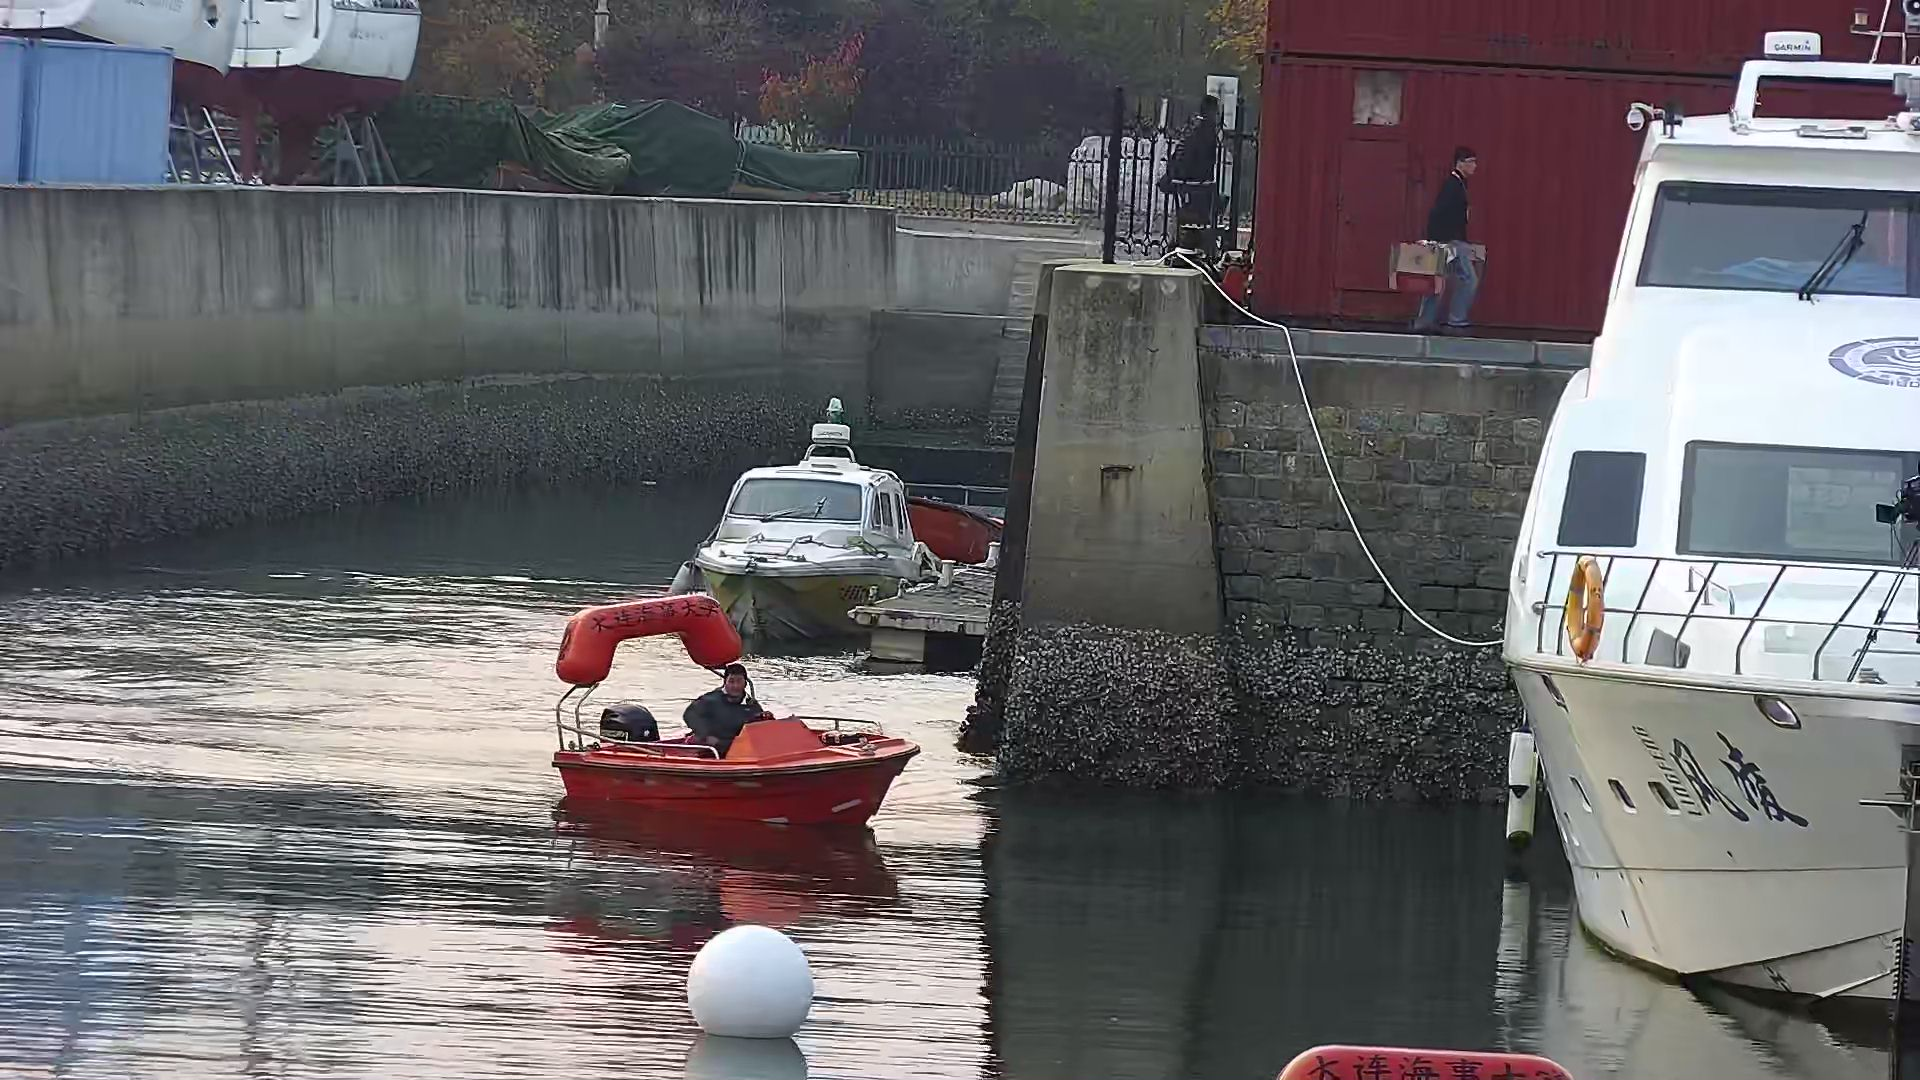ball: (683, 921, 818, 1041)
boat: (553, 596, 924, 837)
person: (683, 663, 761, 754)
ship: (693, 415, 925, 634)
